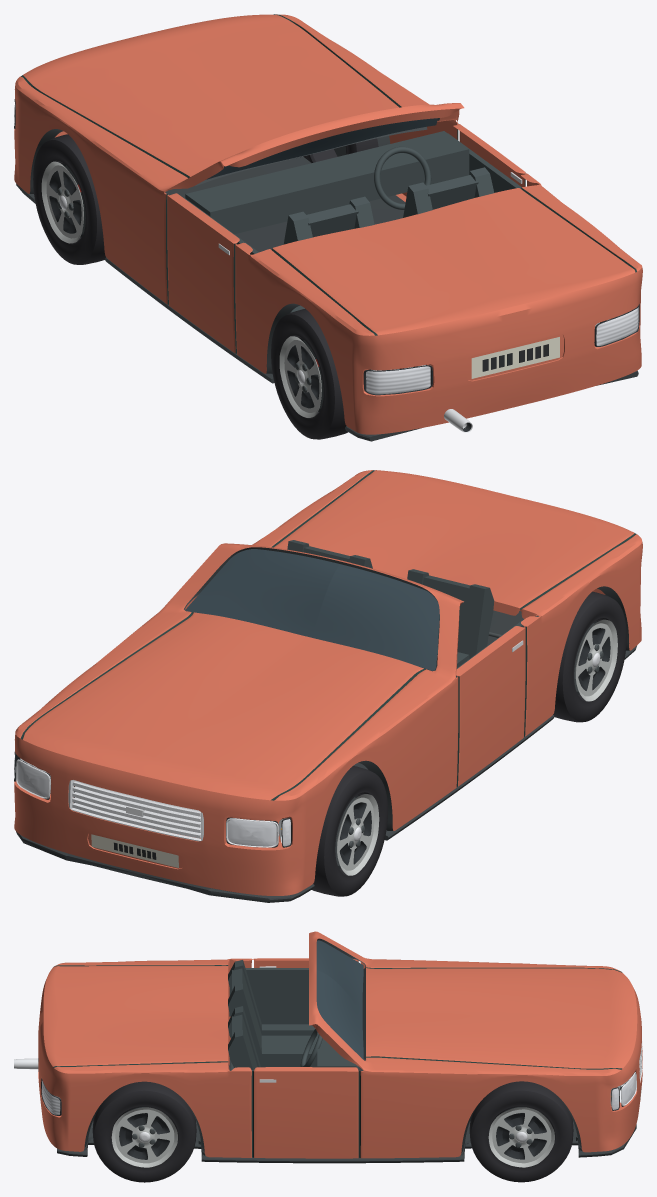
File: forge_open_roadster.fbx
3 views of the same model, one above another, from view 1: azimuth 30°, elevation 25°; view 2: azimuth 150°, elevation 25°; view 3: azimuth 270°, elevation 25° (orthographic). The views are drawn at different scales.
Visible parts, largest first — view 1: Body, Wheel_RL_Mesh, Wheel_FL_Mesh, Wheel_FR_Mesh; view 2: Body, Wheel_FL_Mesh, Wheel_RL_Mesh; view 3: Body, Wheel_FR_Mesh, Wheel_RR_Mesh.
Part boxes in pixels (<box>): Body: <box>14,14,642,441</box>; Wheel_RL_Mesh: <box>271,308,347,439</box>; Wheel_FL_Mesh: <box>33,134,105,264</box>; Wheel_FR_Mesh: <box>303,138,378,162</box>; Body: <box>14,470,642,902</box>; Wheel_FL_Mesh: <box>312,766,387,896</box>; Wheel_RL_Mesh: <box>553,591,626,722</box>; Body: <box>14,931,642,1163</box>; Wheel_FR_Mesh: <box>469,1081,573,1182</box>; Wheel_RR_Mesh: <box>92,1081,196,1182</box>.
Bounding box in the file's own units: 150 × 97.02 × 346.
